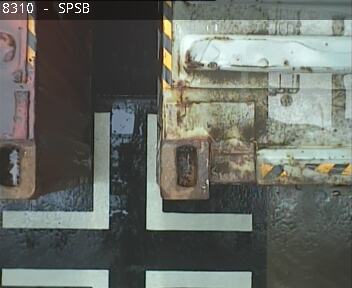groundmarker_1: (3, 113, 251, 230)
